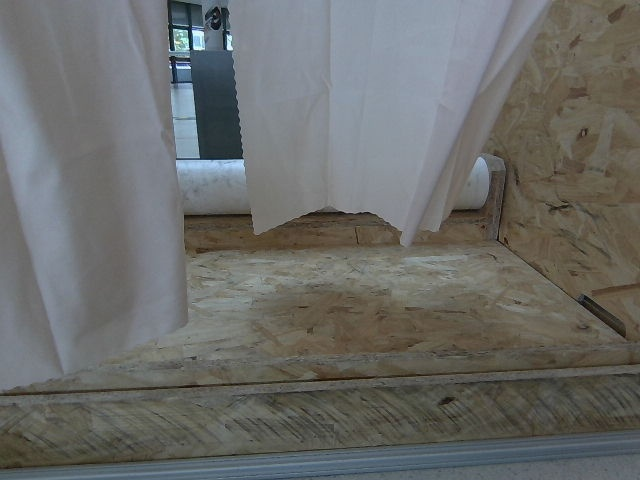curtain: (0, 0, 512, 346)
